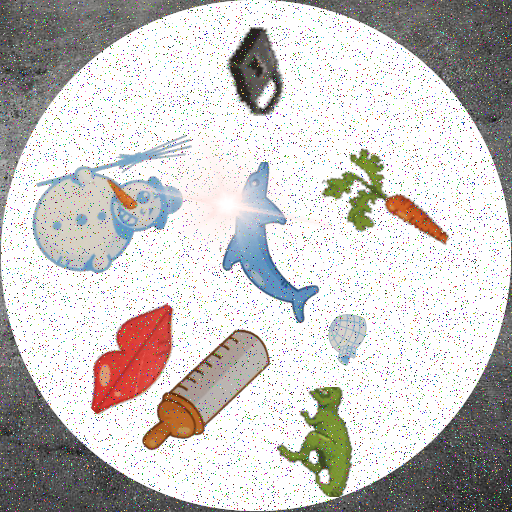bottle_icon: (122, 310, 285, 473)
carrot_icon: (321, 126, 459, 264)
dino_icon: (277, 387, 387, 497)
dolphin_icon: (187, 162, 350, 325)
igloo_icon: (321, 313, 375, 367)
lips_icon: (74, 300, 203, 429)
lock_icon: (214, 27, 303, 116)
snowman_icon: (23, 104, 204, 285)
